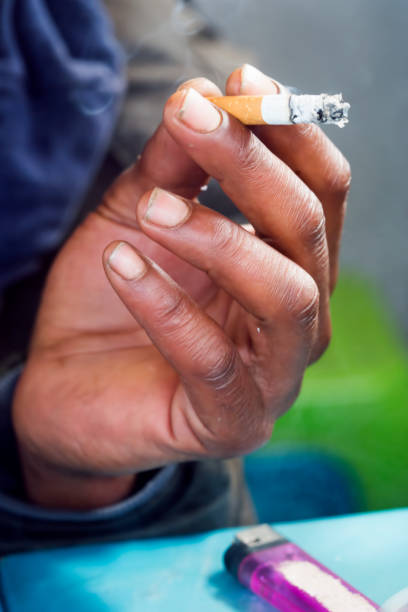cigarette: (219, 89, 345, 129)
